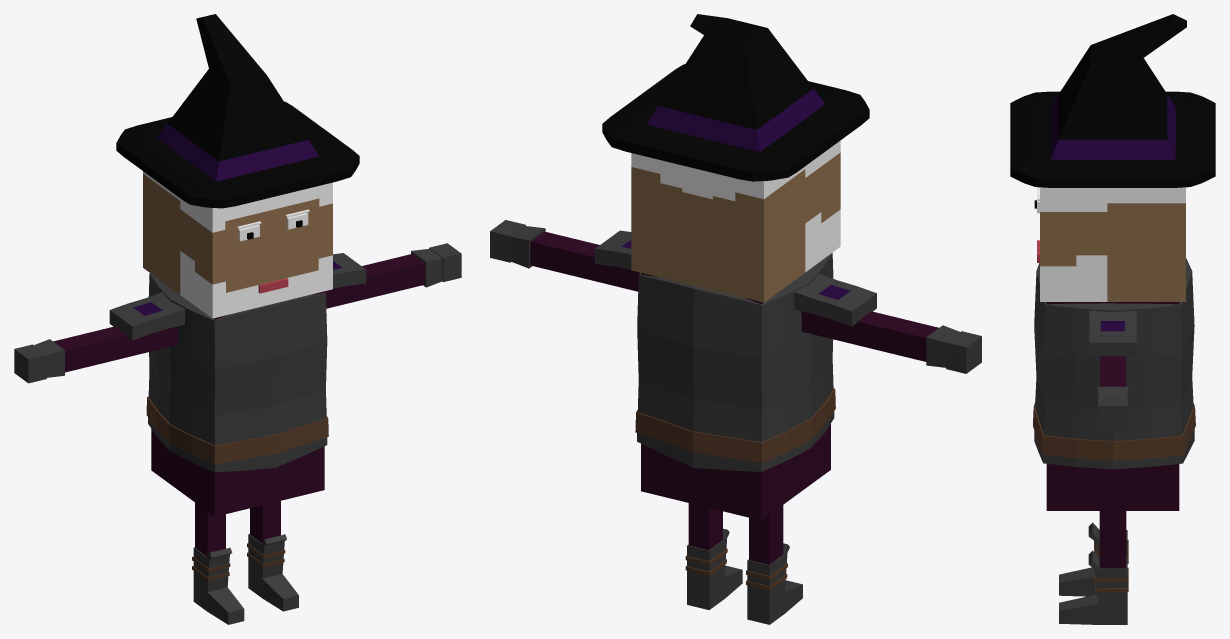
The model's file is MageFBXV2.fbx.
3 views of the same model, side by side, from view 1: azimuth 30°, elevation 25°; view 2: azimuth 150°, elevation 25°; view 3: azimuth 270°, elevation 25° (orthographic). The views are drawn at different scales.
Visible parts, largest first — view 1: Humanoid, Leg.R, Leg.L, LowerArm.R, LowerArm.L, UpperArm.R, UpperArm.L; view 2: Humanoid, Leg.R, Leg.L, LowerArm.R, LowerArm.L, UpperArm.R, UpperArm.L; view 3: Humanoid, Leg.L, LowerArm.L, Leg.R.
Part boxes in pixels (box(x1,y1,x2,y2)): Humanoid: box(109, 14, 366, 516); Leg.R: box(192, 502, 244, 624); Leg.L: box(247, 501, 298, 611); LowerArm.R: box(14, 331, 108, 383); LowerArm.L: box(367, 243, 461, 295); UpperArm.R: box(97, 326, 178, 361); UpperArm.L: box(324, 265, 379, 308); Humanoid: box(595, 14, 876, 520); Leg.R: box(746, 505, 802, 624); Leg.L: box(685, 503, 742, 609); LowerArm.R: box(877, 316, 981, 373); LowerArm.L: box(490, 220, 593, 277); UpperArm.R: box(801, 311, 891, 349); UpperArm.L: box(580, 243, 639, 291); Humanoid: box(1010, 14, 1215, 510); Leg.L: box(1059, 511, 1128, 624); LowerArm.L: box(1097, 365, 1128, 431); Leg.R: box(1059, 522, 1128, 596).
Size of the model in its own units: 418 by 517 by 164.
